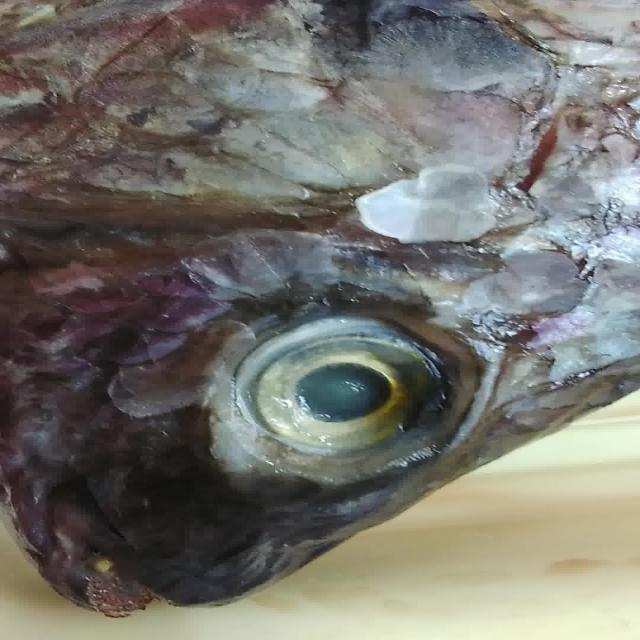Non-Fresh: (192, 282, 496, 498)
